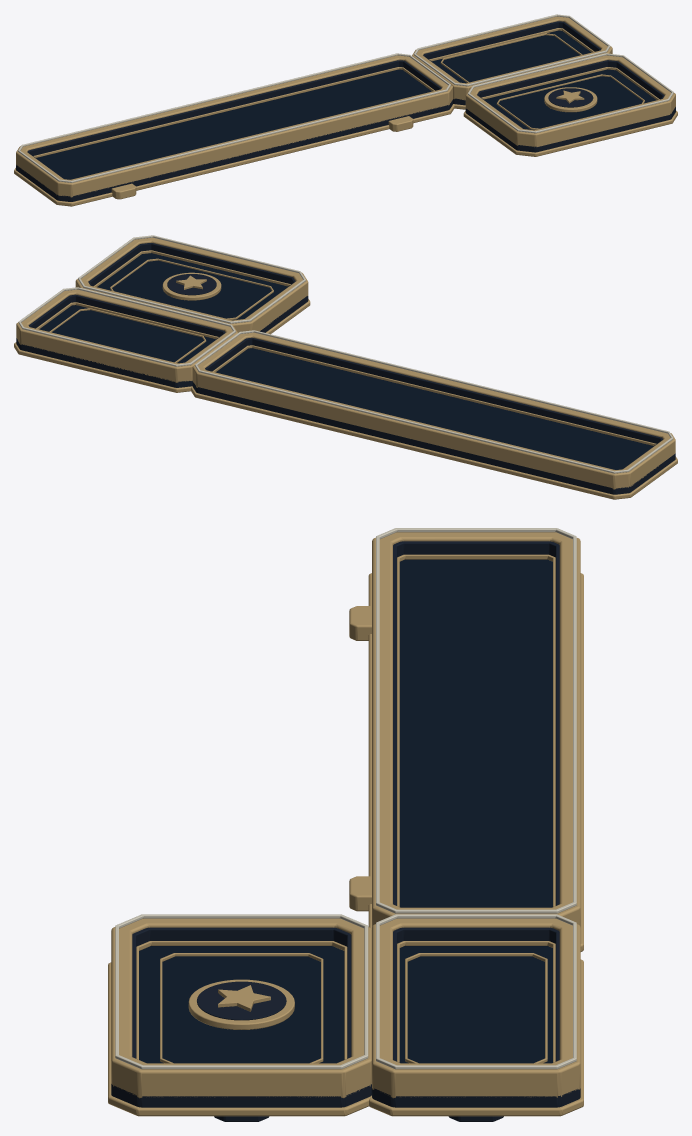
File: identity-addon.glb
3 renders of one model, top to bottom at view 1: azimuth 30°, elevation 25°; view 2: azimuth 150°, elevation 25°; view 3: azimuth 270°, elevation 25°, orthographic. The views are drawn at different scales.
Visible parts, largest first — view 1: Recessed navy face, Raised forged bezel, Raised forged bezel.002, RANK_SOCKET inner bed, MEDAL_SOCKET inner bed, Inner ink reveal, Warm silver chamfer highlight, Enamel structural casing, Raised forged bezel.001, Lower champagne stepped plinth, Inner ink reveal.002, Inner ink reveal.001 (+15 smaller); view 2: Recessed navy face, Raised forged bezel, Raised forged bezel.001, RANK_SOCKET inner bed, MEDAL_SOCKET inner bed, Inner ink reveal, Raised forged bezel.002, Enamel structural casing, Warm silver chamfer highlight, Lower champagne stepped plinth, Inner ink reveal.002, Inner ink reveal.001 (+13 smaller); view 3: Recessed navy face, Raised forged bezel, Raised forged bezel.002, RANK_SOCKET inner bed, Raised forged bezel.001, MEDAL_SOCKET inner bed, Recessed navy face.002, Inner ink reveal, Warm silver chamfer highlight, Inner ink reveal.002, Warm silver chamfer highlight.002, Inner ink reveal.001 (+14 smaller).
Part boxes in pixels (left/top/right/bottom): Recessed navy face: left=36, top=69, right=431, bottom=179; Raised forged bezel: left=16, top=55, right=452, bottom=197; Raised forged bezel.002: left=465, top=55, right=675, bottom=147; RANK_SOCKET inner bed: left=442, top=35, right=579, bottom=82; MEDAL_SOCKET inner bed: left=498, top=76, right=642, bottom=128; Inner ink reveal: left=27, top=60, right=441, bottom=178; Warm silver chamfer highlight: left=18, top=53, right=450, bottom=182; Enamel structural casing: left=16, top=100, right=452, bottom=201; Raised forged bezel.001: left=412, top=16, right=612, bottom=100; Lower champagne stepped plinth: left=14, top=104, right=454, bottom=206; Inner ink reveal.002: left=477, top=60, right=664, bottom=128; Inner ink reveal.001: left=423, top=21, right=600, bottom=82; Recessed navy face: left=216, top=348, right=653, bottom=469; Raised forged bezel: left=192, top=332, right=675, bottom=489; Raised forged bezel.001: left=16, top=289, right=237, bottom=382; RANK_SOCKET inner bed: left=52, top=310, right=203, bottom=362; MEDAL_SOCKET inner bed: left=112, top=260, right=271, bottom=318; Inner ink reveal: left=205, top=337, right=662, bottom=469; Raised forged bezel.002: left=75, top=237, right=308, bottom=332; Enamel structural casing: left=192, top=382, right=675, bottom=494; Warm silver chamfer highlight: left=195, top=330, right=673, bottom=473; Lower champagne stepped plinth: left=191, top=386, right=677, bottom=499; Inner ink reveal.002: left=88, top=243, right=295, bottom=318; Inner ink reveal.001: left=28, top=294, right=225, bottom=362; Recessed navy face: left=399, top=559, right=552, bottom=907; Raised forged bezel: left=372, top=532, right=580, bottom=926; Raised forged bezel.002: left=111, top=918, right=371, bottom=1098; RANK_SOCKET inner bed: left=407, top=956, right=544, bottom=1063; Raised forged bezel.001: left=372, top=918, right=580, bottom=1098; MEDAL_SOCKET inner bed: left=162, top=956, right=320, bottom=1063; Recessed navy face.002: left=139, top=946, right=344, bottom=1063; Inner ink reveal: left=393, top=541, right=559, bottom=905; Warm silver chamfer highlight: left=376, top=528, right=576, bottom=913; Inner ink reveal.002: left=132, top=927, right=351, bottom=1058; Warm silver chamfer highlight.002: left=115, top=914, right=368, bottom=1069; Inner ink reveal.001: left=393, top=927, right=559, bottom=1061.
Size of the model in its own units: 0.371 by 0.023 by 0.137.
